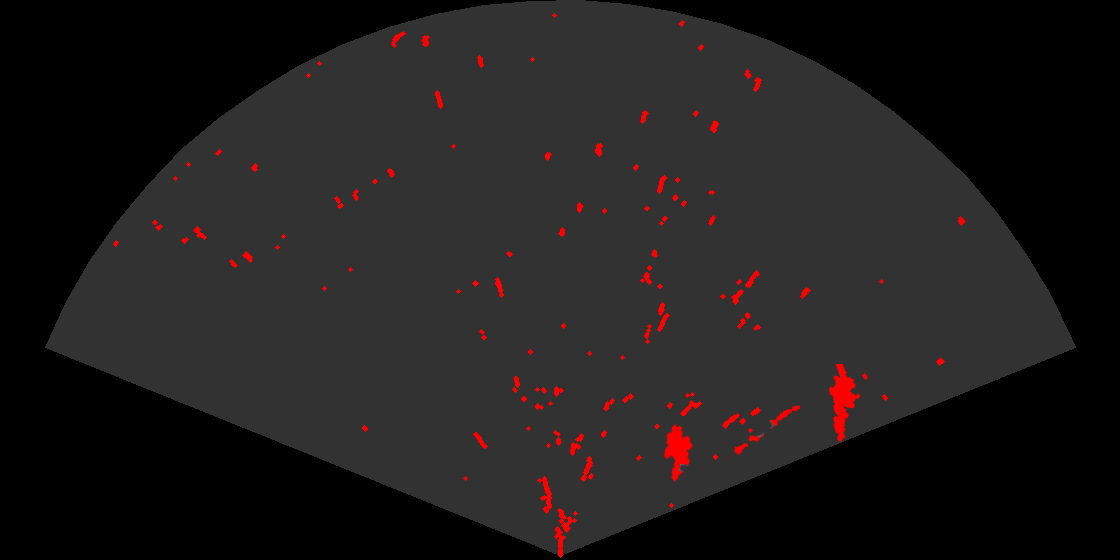AUV: (662, 423, 694, 483)
chain: (723, 404, 802, 461)
frogman: (827, 364, 862, 443)
